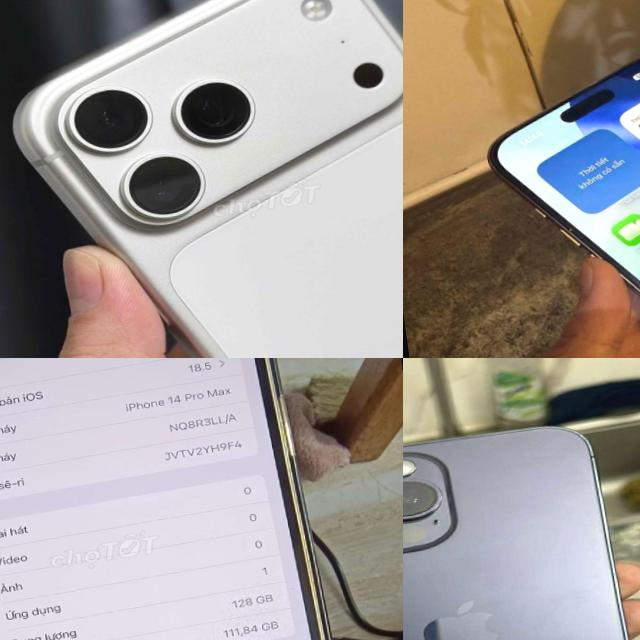gen_14: (0, 358, 357, 640)
gen_15: (403, 412, 640, 640)
gen_16: (490, 60, 640, 293)
gen_17: (0, 0, 403, 358)
